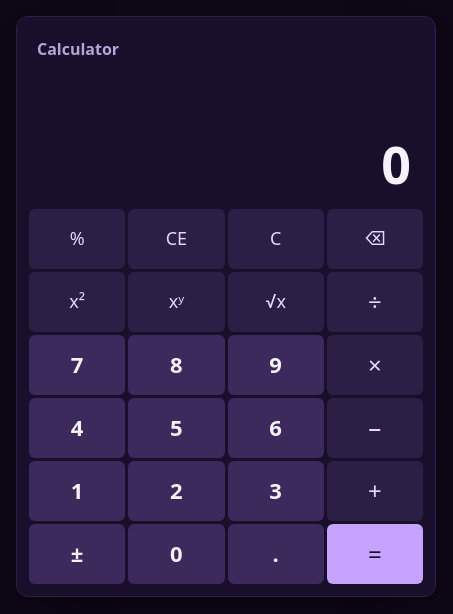
Test: <Calculator /> › shows a red banner when the backend rejects the calculation
The width and height of the screenshot is (453, 614).
Click the button "1" at (77, 490), box [29,460,125,520]
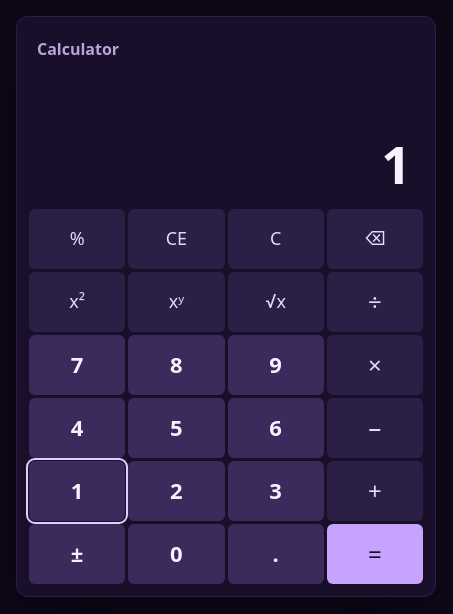
Click the button named "Divide" at (375, 302), box [327,272,423,332]
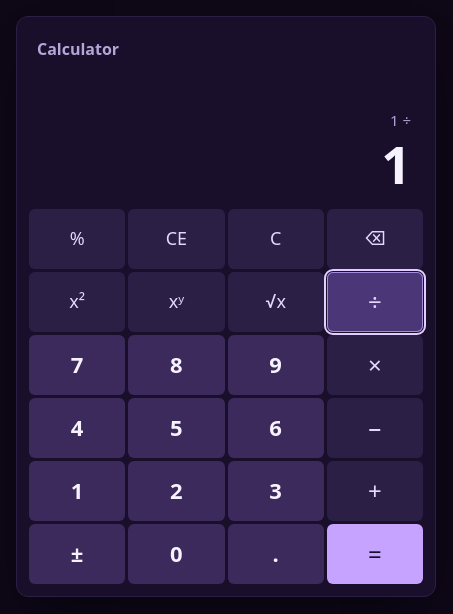
Click the button "0" at (176, 554), box [128,524,225,584]
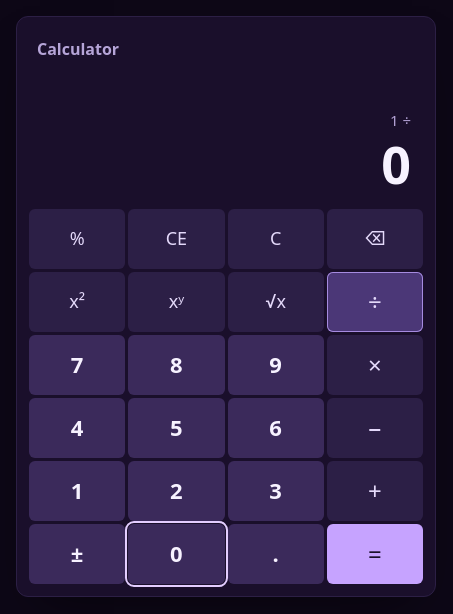
Click the button named "Equals" at (375, 554), box [327,524,423,584]
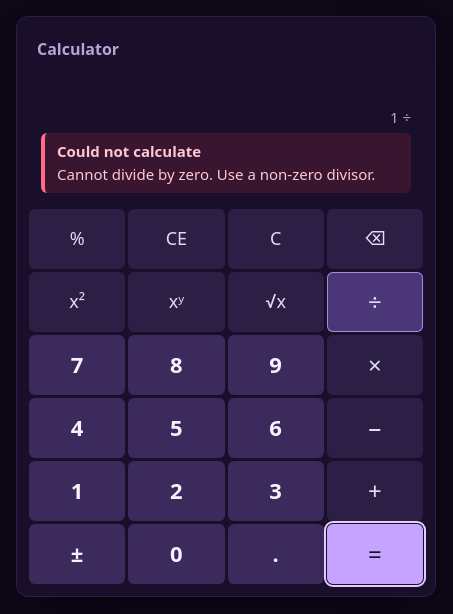
Expected: the message shows "Cannot divide by zero", [57,164,375,184]
Click the button named "Clear" at (276, 238), box [228,208,324,268]
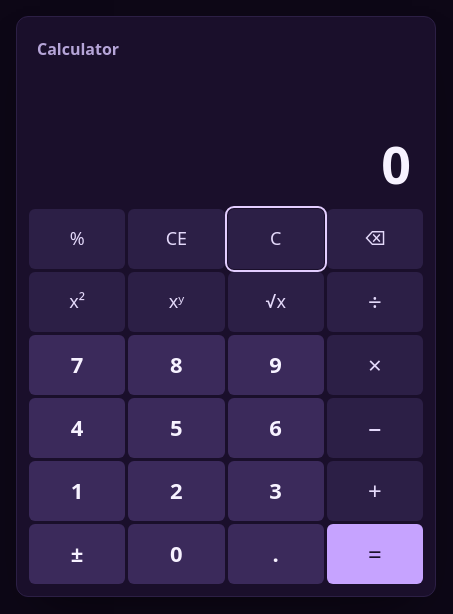
Expected: the text with test id "result-value" reads "0", [381,128,411,199]
